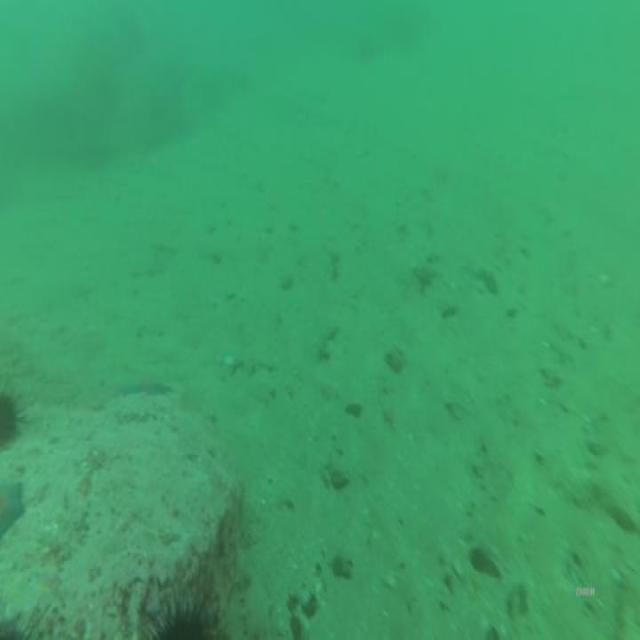echinus: (1, 394, 14, 447)
starfish: (0, 479, 22, 540), (122, 376, 170, 394)
